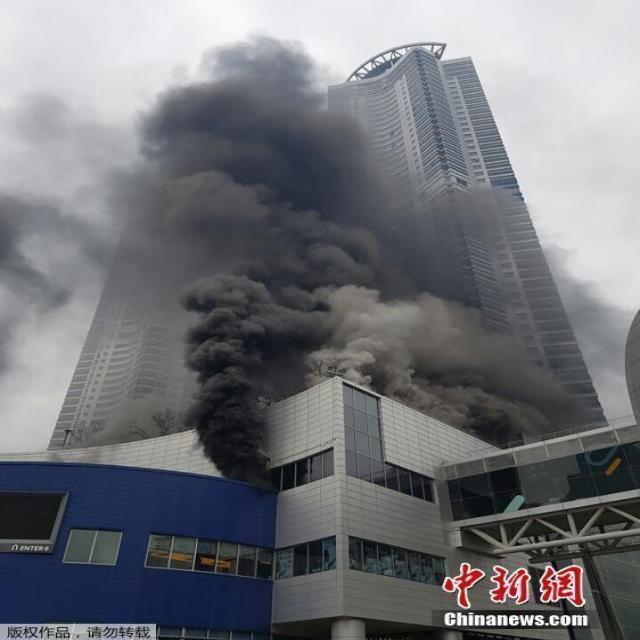Smoke: (176, 32, 634, 447), (0, 31, 340, 381), (137, 31, 376, 484)
